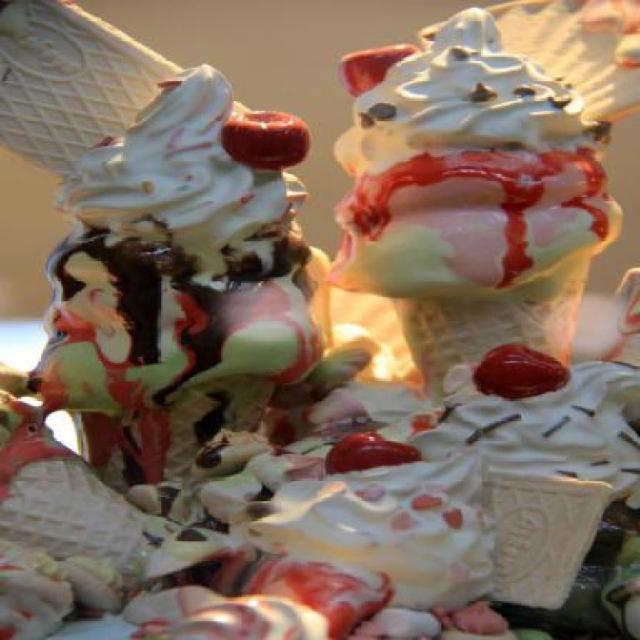Ice cream: (0, 0, 335, 489), (309, 271, 640, 640), (324, 9, 626, 398), (130, 423, 530, 640), (0, 391, 194, 638)
